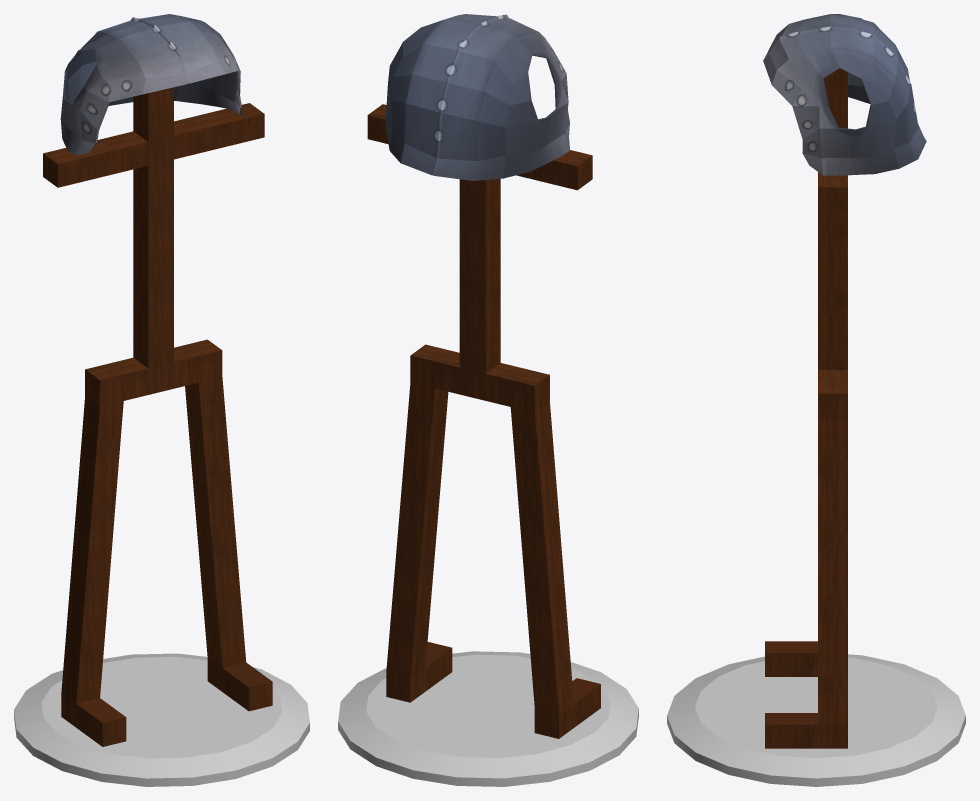
File: Armour_Stand_Helmet.fbx
3 renders of one model, left to right at view 1: azimuth 30°, elevation 25°; view 2: azimuth 150°, elevation 25°; view 3: azimuth 270°, elevation 25°, orthographic.
Parts seen in each view (by area): view 1: pCube2, pCylinder1, pasted__Helmet; view 2: pCube2, pCylinder1, pasted__Helmet; view 3: pCylinder1, pCube2, pasted__Helmet.
Part boxes in pixels (bbox=[...]): pCube2: bbox=[43, 87, 272, 746]; pCylinder1: bbox=[14, 653, 309, 786]; pasted__Helmet: bbox=[60, 14, 242, 155]; pCube2: bbox=[367, 104, 600, 738]; pCylinder1: bbox=[338, 651, 638, 786]; pasted__Helmet: bbox=[385, 14, 569, 180]; pCylinder1: bbox=[667, 654, 965, 786]; pCube2: bbox=[765, 68, 847, 748]; pasted__Helmet: bbox=[763, 14, 926, 175].
Size of the model in its own units: 80 by 206 by 80.
